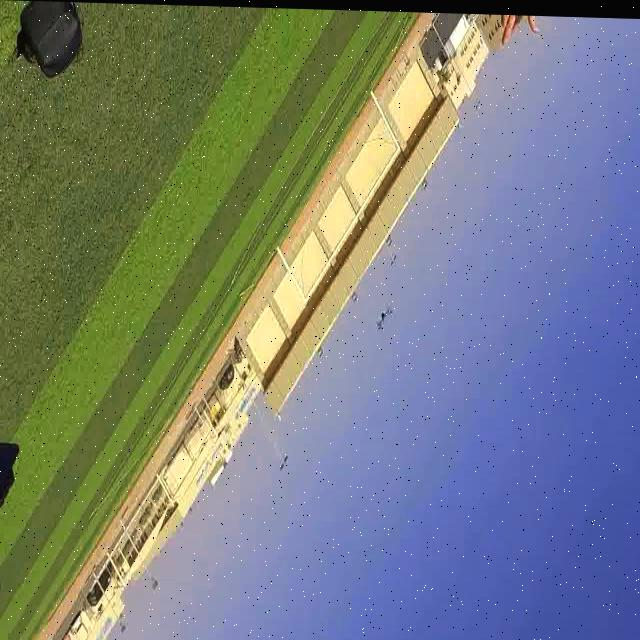drone: (374, 293, 396, 341)
